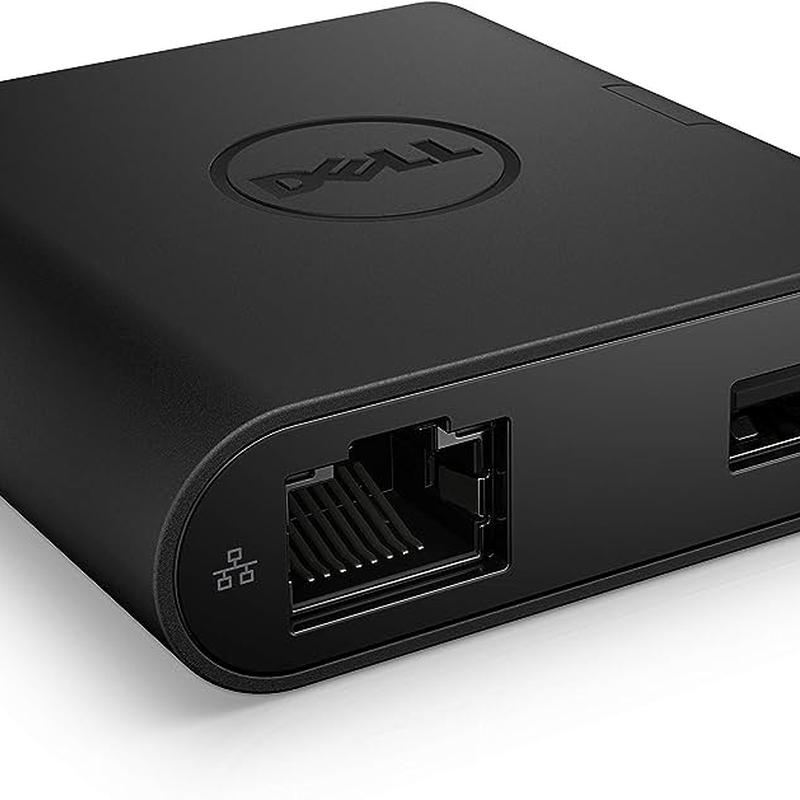ETHERNET: (242, 402, 539, 637)
